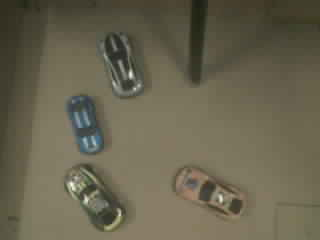Car: (65, 165, 124, 230), (176, 167, 243, 217), (98, 35, 143, 96), (67, 95, 103, 152)
